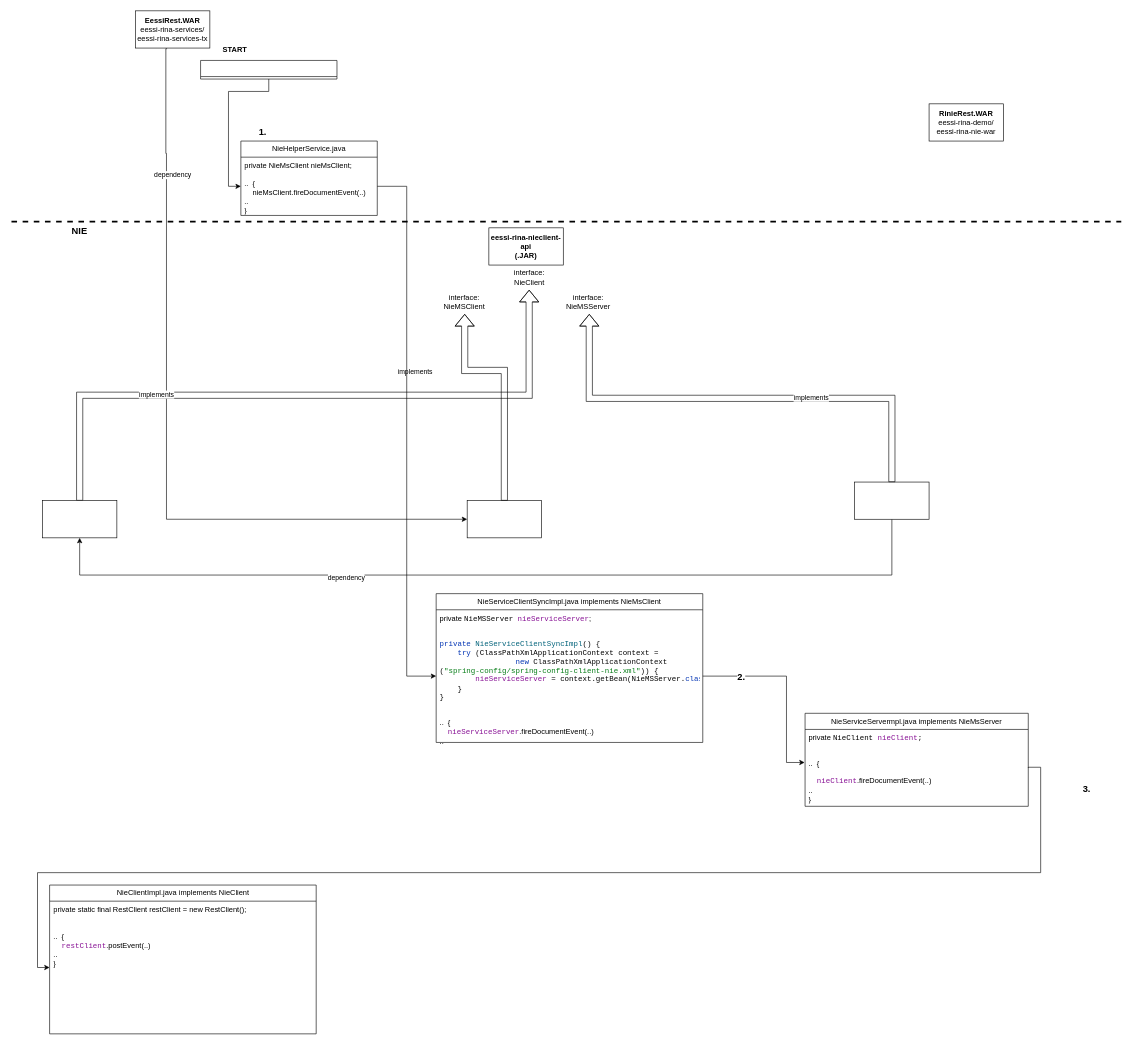
The diagram is 1133 pixels wide and 1047 high, and some of its shapes have lost their labels. Each missing label, with the centre of its shape:
"@RestController DocumentCotroller" belongs at point (268, 69).
"eessi-rina-nieclient-impl (.JAR)" belongs at point (79, 519).
"eessi-rina-nieclient-ms-client (.JAR)" belongs at point (504, 519).
"eessi-rina-nieclient-ms-server (.WAR)" belongs at point (891, 500).
